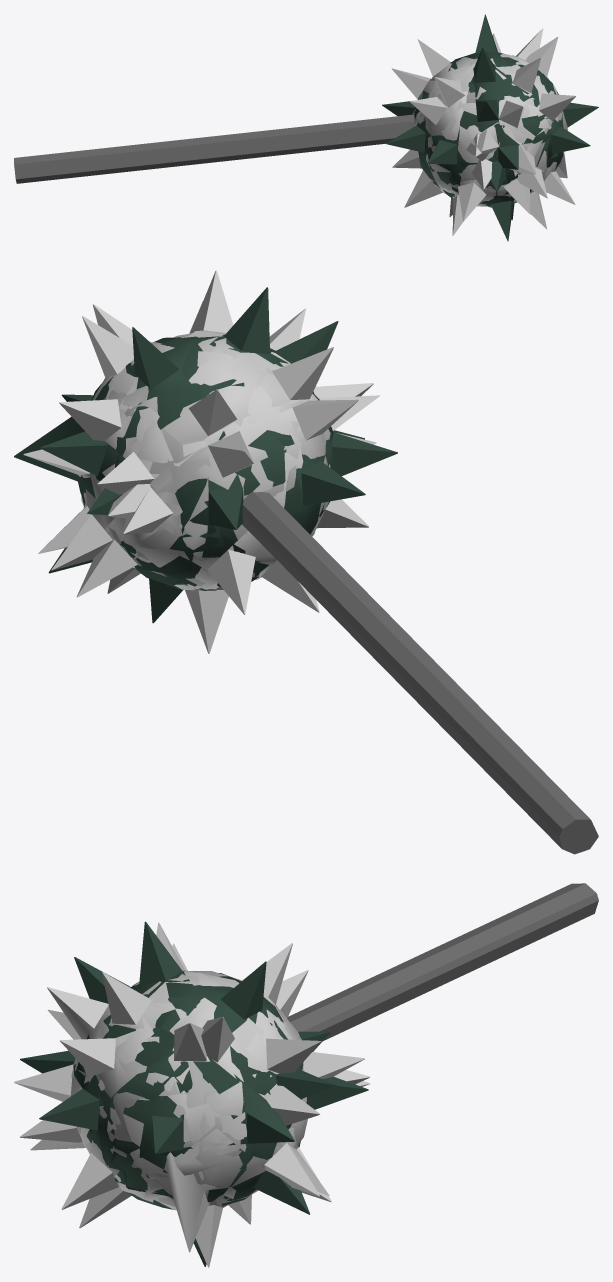
File: maza.fbx
The picture shows the model from 3 angles, top to bottom: view 1: azimuth 30°, elevation 25°; view 2: azimuth 150°, elevation 25°; view 3: azimuth 270°, elevation 25°; orthographic projection. The views are drawn at different scales.
Parts seen in each view (by area): view 1: Sphere001.004; view 2: Sphere001.004; view 3: Sphere001.004.
Boxes of the visible parts, bbox=[...] form: Sphere001.004: bbox=[14, 14, 598, 241]; Sphere001.004: bbox=[14, 270, 598, 854]; Sphere001.004: bbox=[14, 883, 598, 1267].
Bounding box in the file's own units: 26.52 × 11.14 × 19.16.
